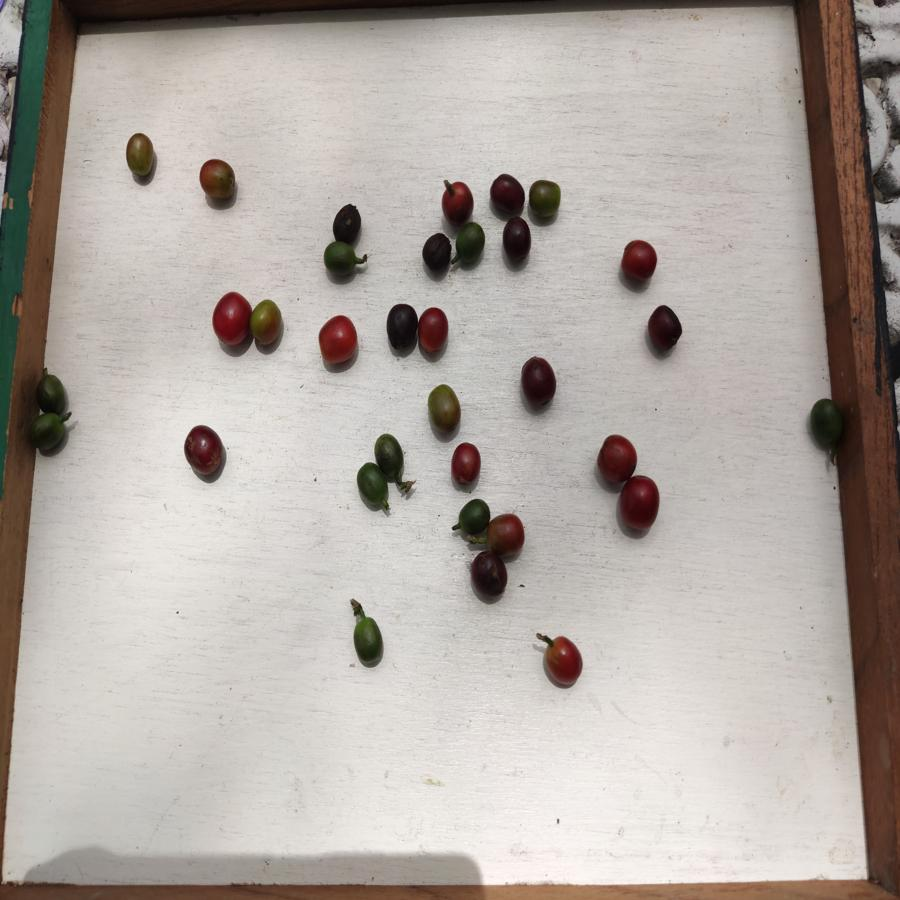Inmaduro: (809, 396, 845, 453), (355, 461, 390, 508), (353, 615, 384, 663), (30, 413, 67, 452), (36, 372, 65, 420), (454, 223, 487, 265), (373, 434, 404, 477), (455, 498, 489, 535), (324, 243, 358, 277)
Maduro: (618, 474, 661, 532), (211, 291, 250, 351), (540, 638, 584, 688), (597, 434, 638, 483), (317, 316, 359, 363), (446, 439, 486, 487), (621, 240, 659, 286), (418, 307, 449, 354), (441, 181, 476, 220)
Pinton: (195, 157, 238, 204), (426, 382, 461, 439), (525, 179, 563, 223), (488, 513, 526, 556), (124, 132, 156, 183), (250, 296, 281, 345)
Sobremaduro: (518, 356, 565, 408), (182, 425, 227, 478), (471, 552, 508, 599), (650, 305, 684, 351), (384, 304, 416, 352), (490, 175, 526, 216), (331, 202, 364, 243), (420, 233, 452, 273), (504, 216, 531, 261)
